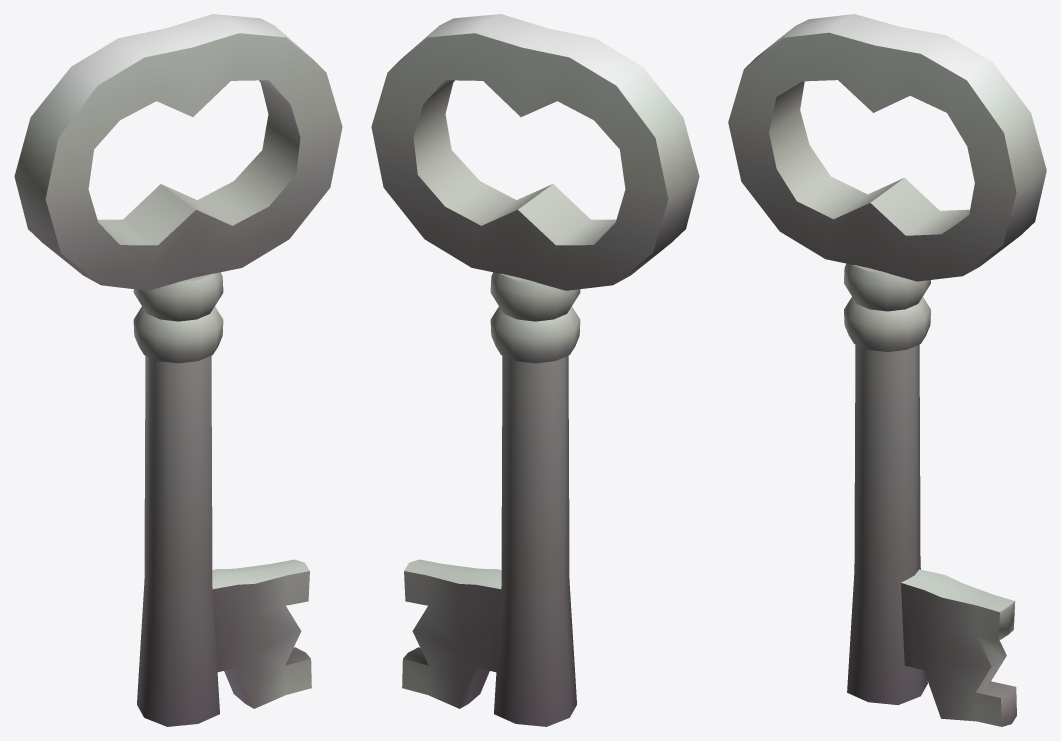
File: Skeleton_Key_03.glb
3 views of the same model, side by side, from view 1: azimuth 30°, elevation 25°; view 2: azimuth 150°, elevation 25°; view 3: azimuth 330°, elevation 25° (orthographic). The views are drawn at different scales.
Visible parts, largest first — view 1: Skeleton_Key_03; view 2: Skeleton_Key_03; view 3: Skeleton_Key_03.
Boxes of the visible parts, x1,y1,x2,y2 form: Skeleton_Key_03: (14, 14, 342, 726); Skeleton_Key_03: (371, 14, 699, 726); Skeleton_Key_03: (728, 14, 1046, 726).
Bounding box in the file's own units: 0.3775 × 0.8223 × 0.0974.
Materials: 1 (1 with a texture image).
